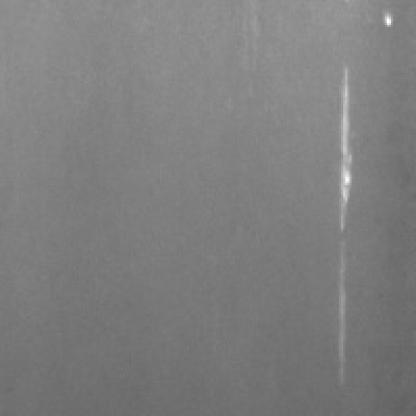scratches: (328, 63, 364, 393), (383, 10, 401, 36)
